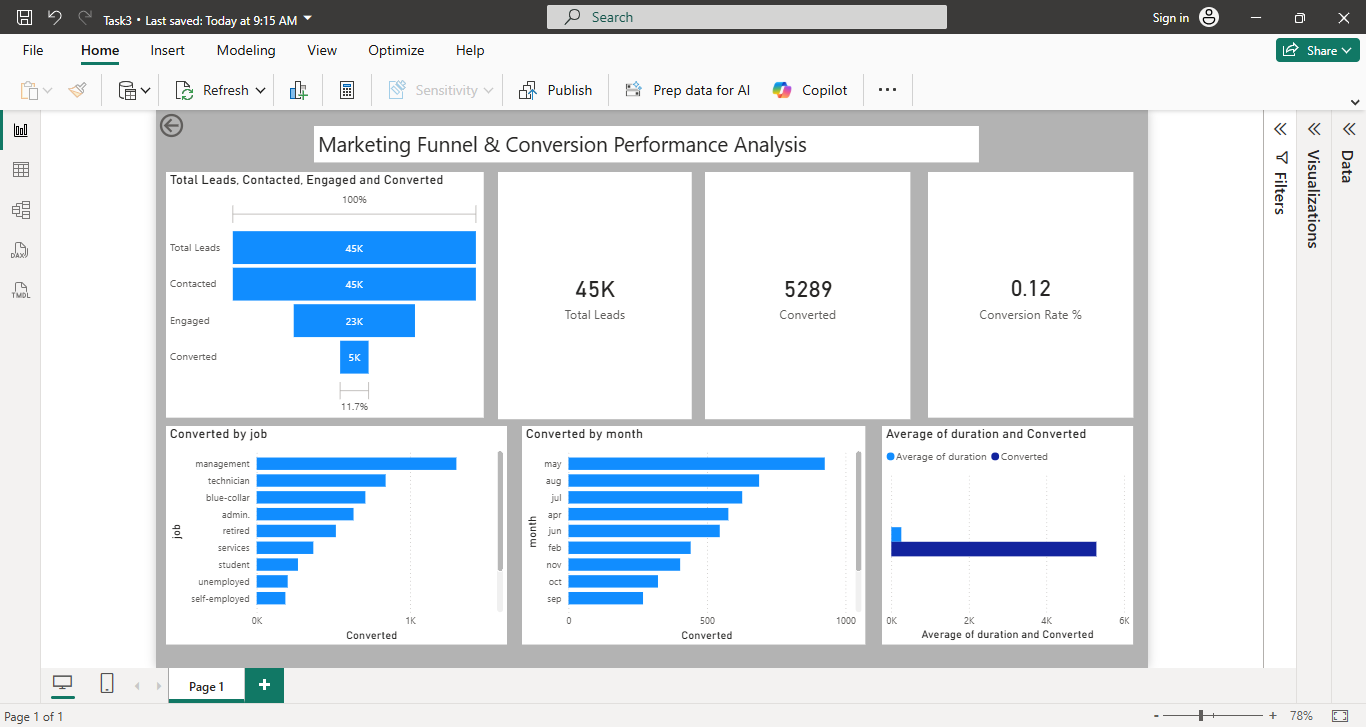

What the dashboard file says about the page in this screenshot:
{"tool":"powerbi","page":{"name":"Page 1","canvas":[1280,720],"ordinal":0},"visuals":[{"type":"funnel","fields":{"Y":["bank-full.Total Leads","bank-full.Contacted","bank-full.Engaged","bank-full.Converted"]},"box":[13.4,80.6,409.9,317.5],"z":0},{"type":"actionButton","box":[0,0,100,40],"z":1},{"type":"textbox","box":[203.3,20.2,858.4,47],"z":2},{"type":"card","fields":{"Values":["bank-full.Total Leads"]},"box":[441.8,80.6,250.3,319.2],"z":3},{"type":"card","fields":{"Values":["bank-full.Converted"]},"box":[708.9,80.6,265.4,319.2],"z":4},{"type":"card","fields":{"Values":["bank-full.Conversion Rate %"]},"box":[996.1,80.6,265.4,317.5],"z":5},{"type":"clusteredBarChart","fields":{"Category":["bank-full.job"],"Y":["bank-full.Converted"]},"box":[13.4,408.2,440.1,282.2],"z":6},{"type":"clusteredBarChart","fields":{"Category":["bank-full.month"],"Y":["bank-full.Converted"]},"box":[472,408.2,443.5,282.2],"z":7},{"type":"clusteredBarChart","fields":{"Y":["Avg(bank-full.duration)","bank-full.Converted"]},"box":[937.3,408.2,324.2,282.2],"z":8}]}

Visuals, with their boxes on the page's 1280x720 design canvas (x1, y1, x2, y2). These are canvas units, not pixel positions in the 1366x727 screenshot, which may show the page scaled, cropped or inside an application window:
funnel - bank-full.Total Leads x bank-full.Contacted: [x1=13, y1=81, x2=423, y2=398]
actionButton: [x1=0, y1=0, x2=100, y2=40]
textbox: [x1=203, y1=20, x2=1062, y2=67]
card - bank-full.Total Leads: [x1=442, y1=81, x2=692, y2=400]
card - bank-full.Converted: [x1=709, y1=81, x2=974, y2=400]
card - bank-full.Conversion Rate %: [x1=996, y1=81, x2=1262, y2=398]
clusteredBarChart - bank-full.job x bank-full.Converted: [x1=13, y1=408, x2=454, y2=690]
clusteredBarChart - bank-full.month x bank-full.Converted: [x1=472, y1=408, x2=916, y2=690]
clusteredBarChart - Avg(bank-full.duration) x bank-full.Converted: [x1=937, y1=408, x2=1262, y2=690]
